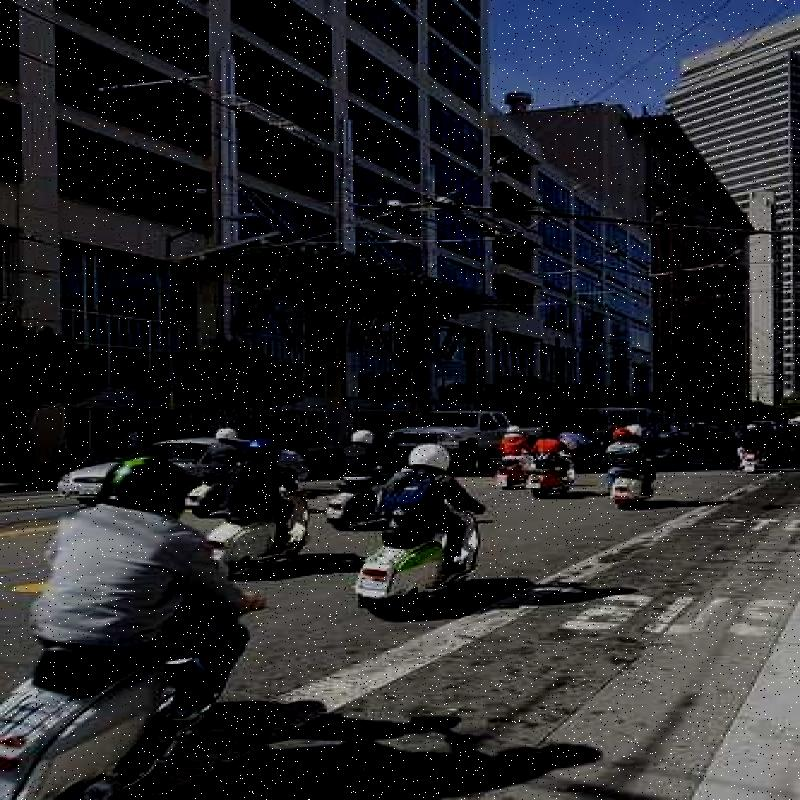bike: (22, 624, 205, 786), (323, 520, 515, 612), (214, 496, 325, 588), (604, 474, 668, 516), (534, 456, 577, 496), (492, 458, 534, 489)
